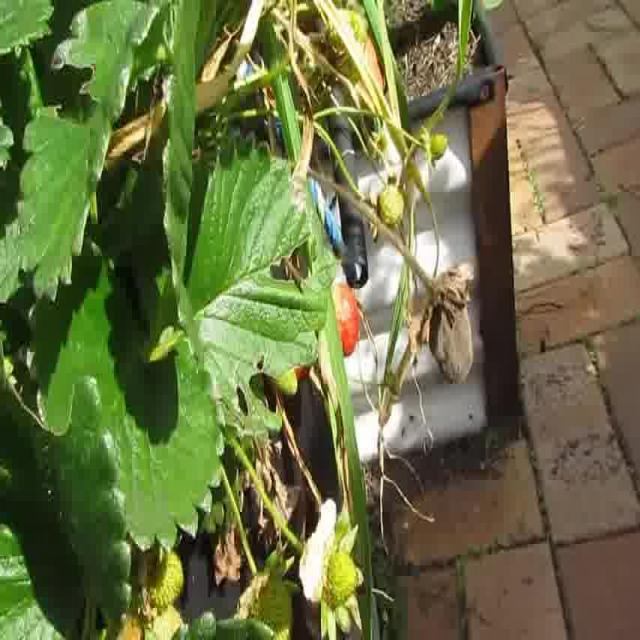Fruta sana: (321, 272, 357, 356), (138, 548, 186, 607)
Moho gris: (421, 275, 476, 383)
